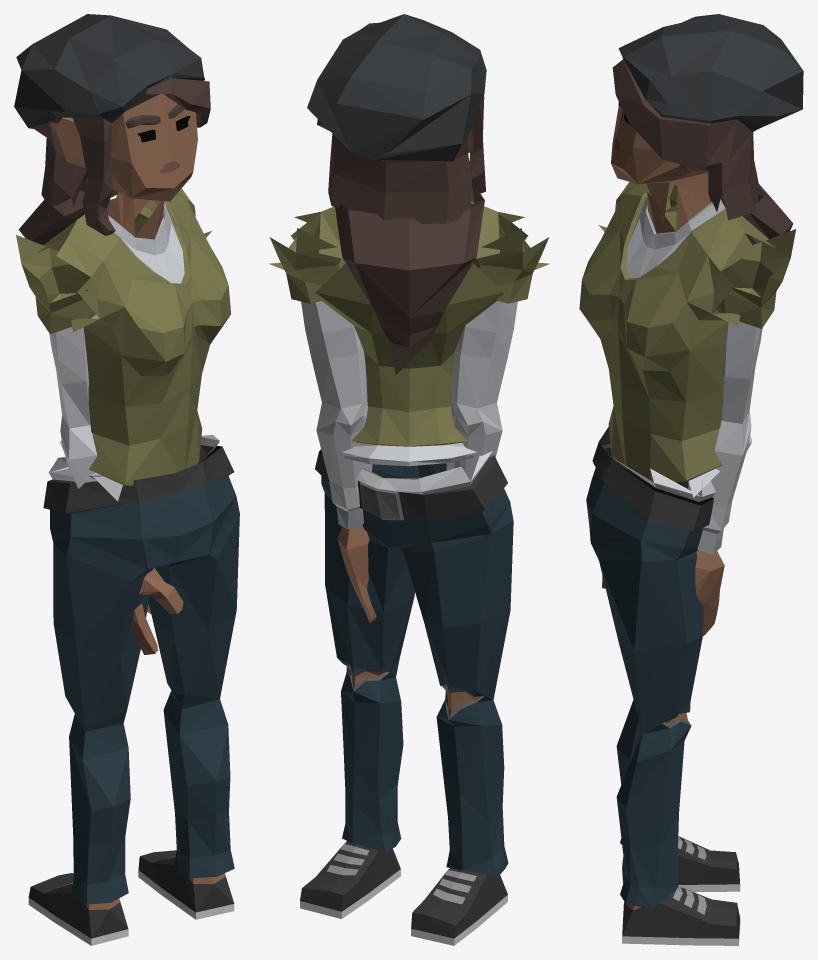
File: Demon_looks_back.obj
3 renders of one model, left to right at view 1: azimuth 30°, elevation 25°; view 2: azimuth 150°, elevation 25°; view 3: azimuth 270°, elevation 25°, orthographic.
Parts seen in each view (by area): view 1: Demon_looks_back; view 2: Demon_looks_back; view 3: Demon_looks_back.
Part boxes in pixels (box(x1,y1,x2,y2)): Demon_looks_back: box(14, 14, 239, 945); Demon_looks_back: box(269, 14, 549, 945); Demon_looks_back: box(579, 14, 803, 945).
Size of the model in its own units: 0.4928 by 1.84 by 0.4241.
1 material, 1 textured.
